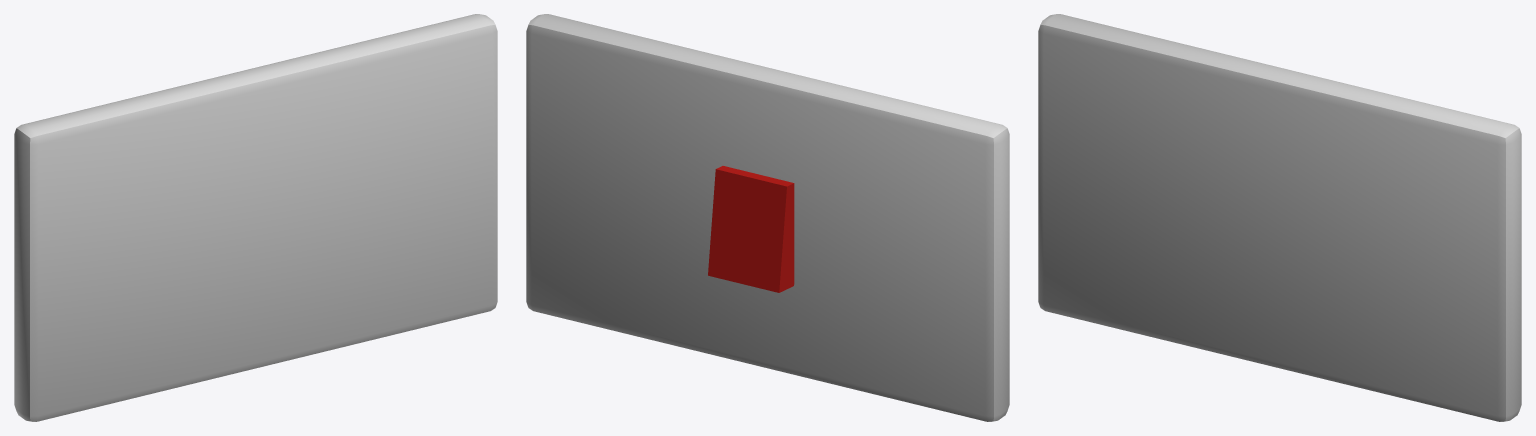
File: services.point.cooker.glb
The picture shows the model from 3 angles, left to right: view 1: azimuth 30°, elevation 25°; view 2: azimuth 150°, elevation 25°; view 3: azimuth 330°, elevation 25°; orthographic projection.
Visible parts, largest first — view 1: main__plastic_white; view 2: main__plastic_white, main__plastic_red; view 3: main__plastic_white.
Boxes of the visible parts, bbox=[...] form: main__plastic_white: bbox=[14, 14, 497, 421]; main__plastic_white: bbox=[526, 14, 1009, 421]; main__plastic_red: bbox=[708, 166, 794, 292]; main__plastic_white: bbox=[1038, 14, 1521, 421].
Bounding box in the file's own units: 0.146 × 0.086 × 0.018.
